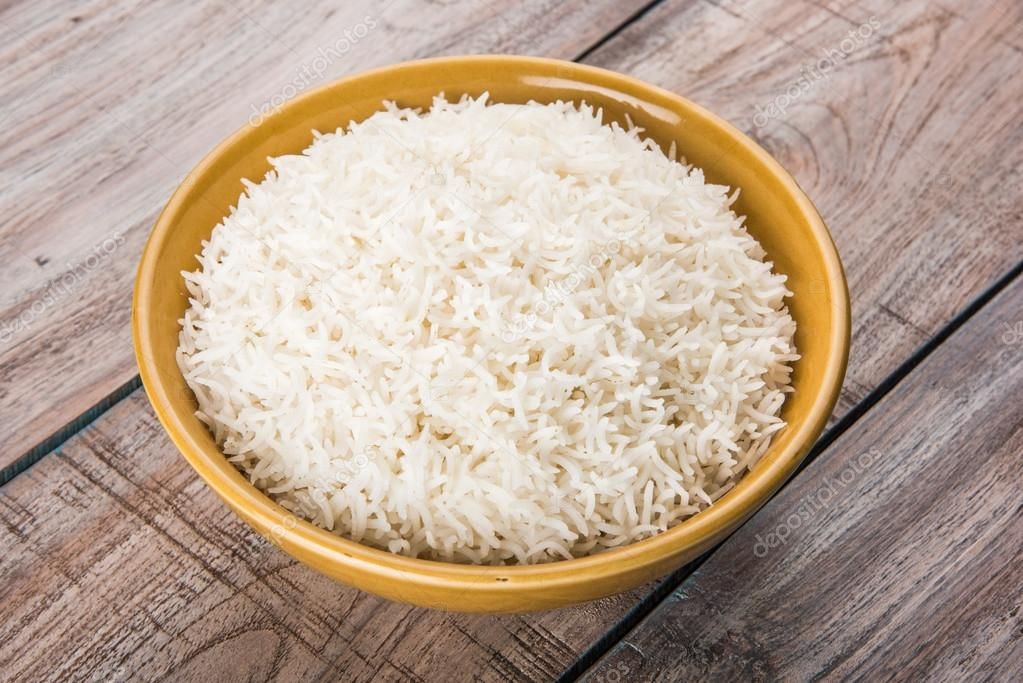rice: (167, 75, 826, 556)
